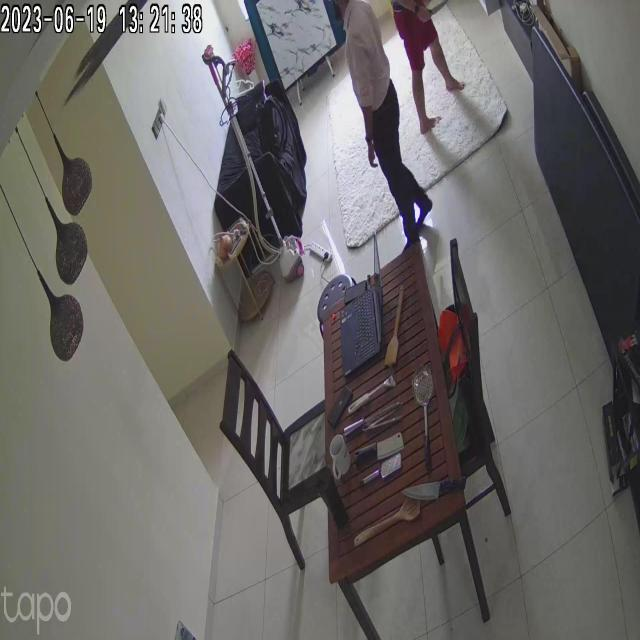Knife: (390, 475, 476, 502)
